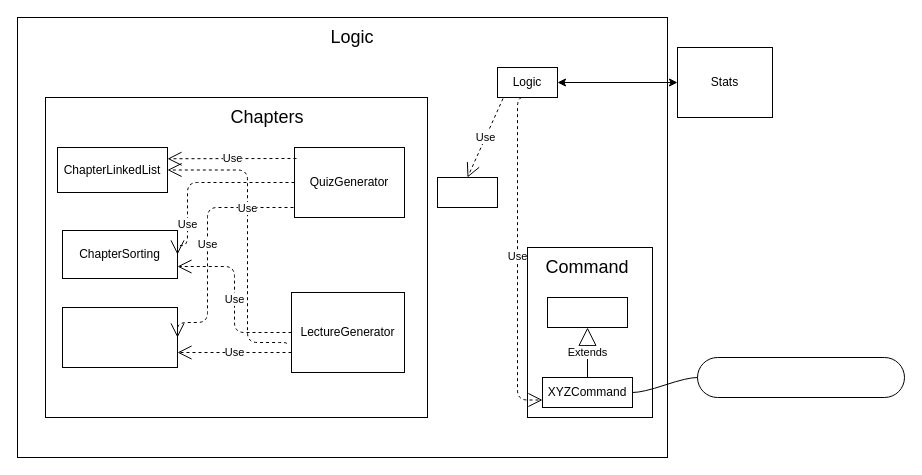
The diagram is 922 pixels wide and 475 high, and some of its shapes have lost their labels. The centre of each missing label's shape, as x and y in pixels:
"ChapterBitmask" goes at point (120, 337).
"HelpCommand, SetupCommand .etc" goes at point (800, 377).
"Parser" goes at point (467, 192).
"{abstract} Command" goes at point (587, 312).
